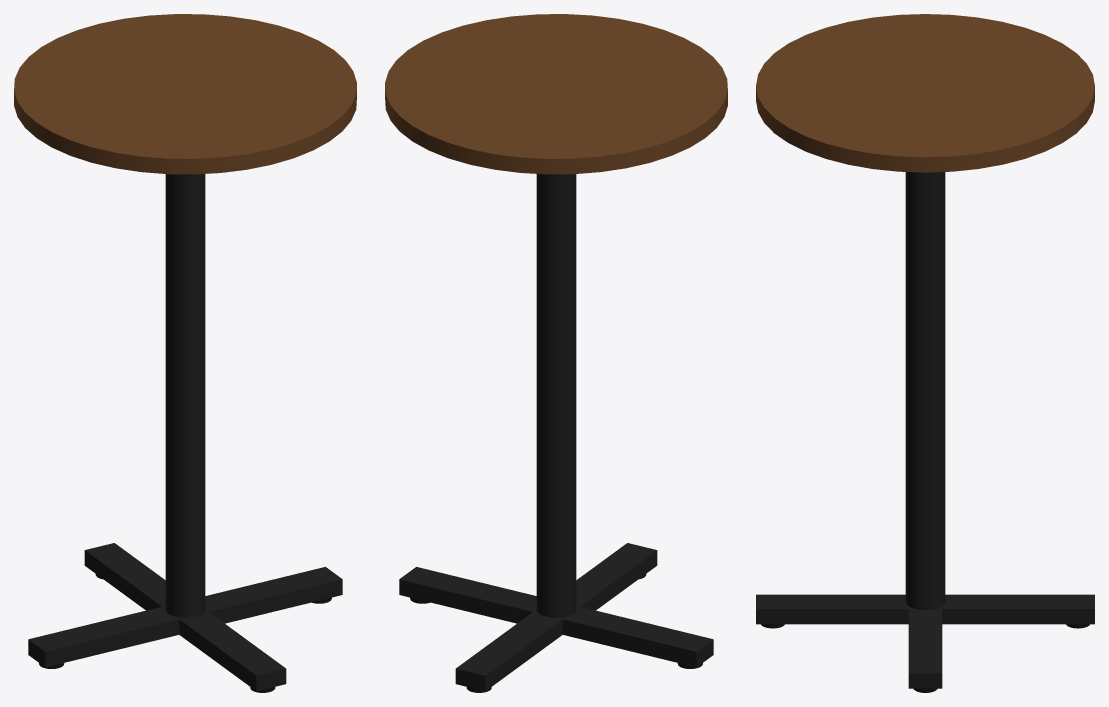
Rendered from base-alta.glb.
3 views of the same model, side by side, from view 1: azimuth 30°, elevation 25°; view 2: azimuth 150°, elevation 25°; view 3: azimuth 270°, elevation 25° (orthographic).
Parts seen in each view (by area): view 1: base-alta; view 2: base-alta; view 3: base-alta.
Boxes of the visible parts, left/top/right/bottom form: base-alta: left=14, top=14, right=356, bottom=692; base-alta: left=385, top=14, right=727, bottom=692; base-alta: left=756, top=14, right=1094, bottom=692.
Bounding box in the file's own units: 0.6 × 1.05 × 0.6.
